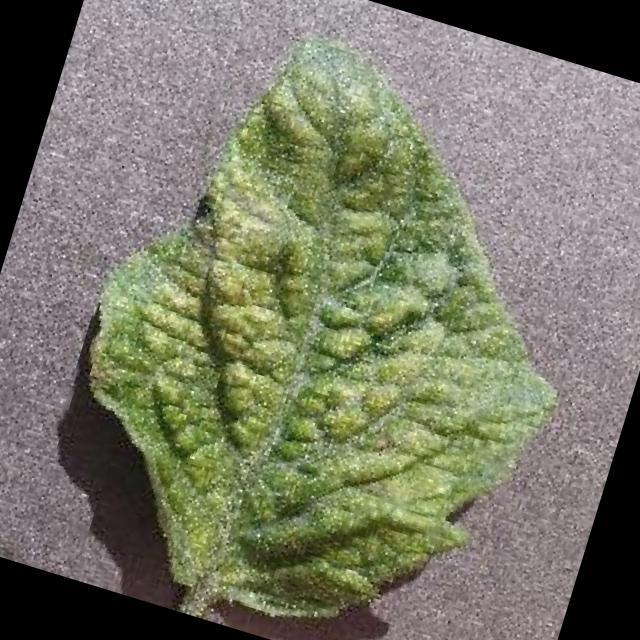Tomato spider mites leaf: (20, 0, 639, 640)
